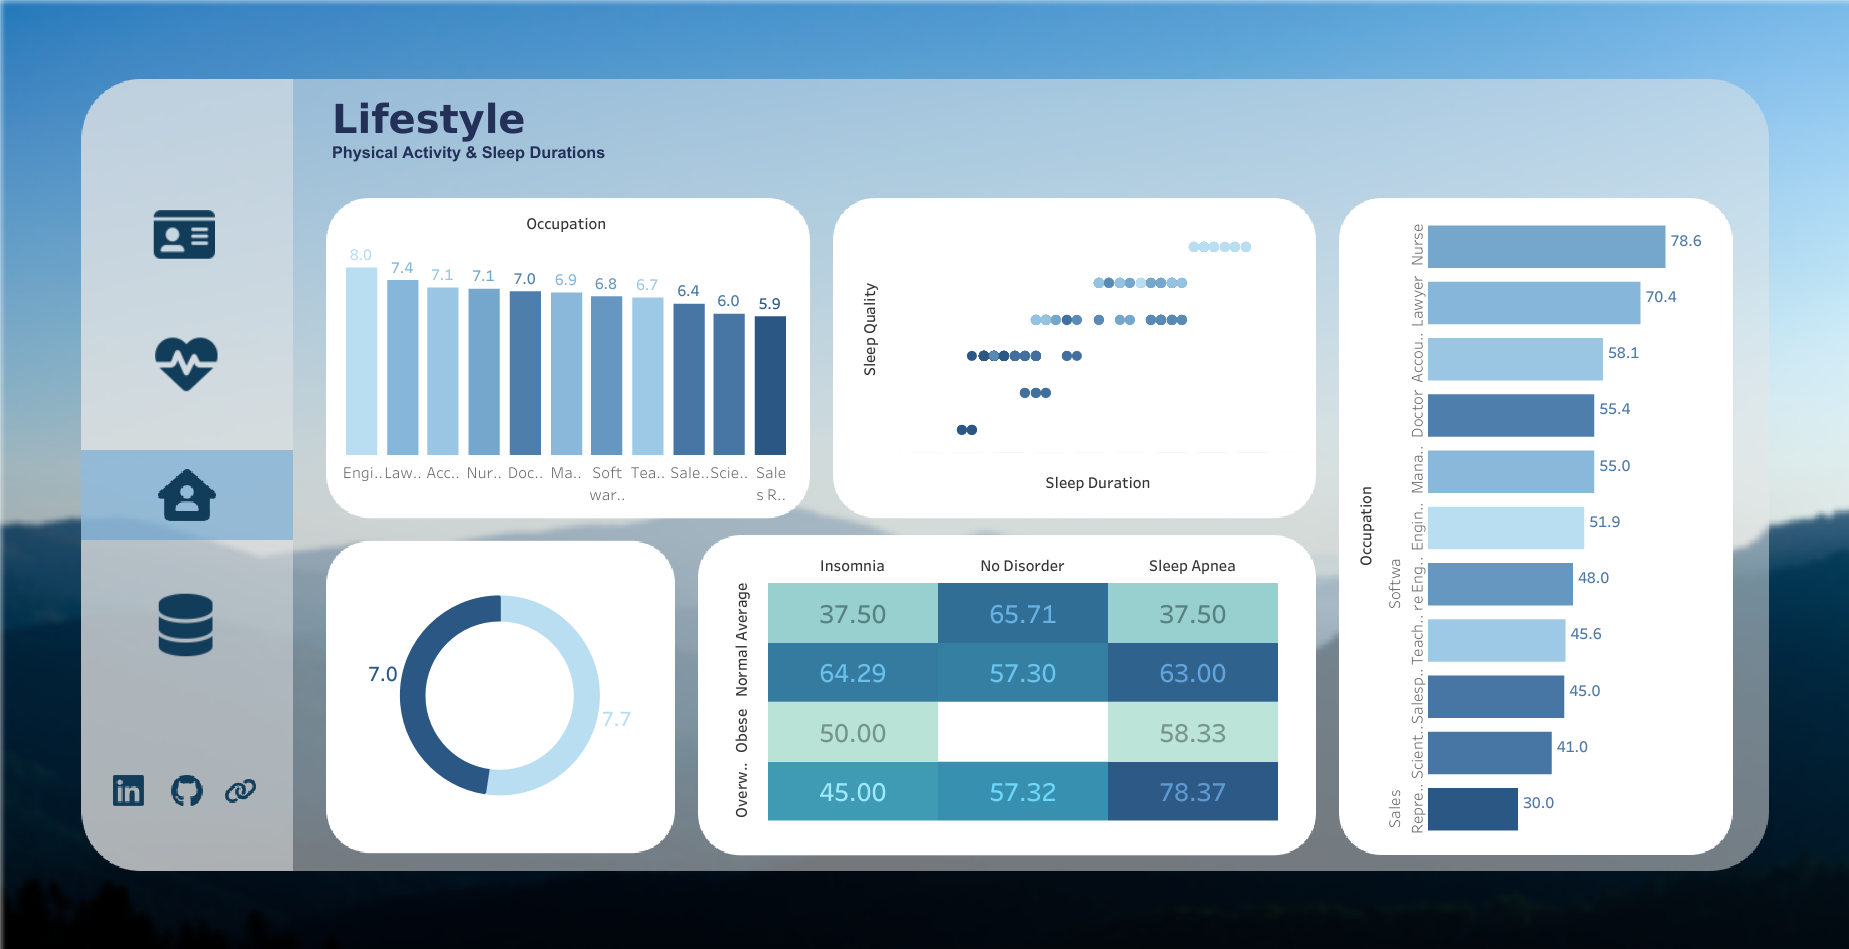

The dashboard page shown, as its layout file describes it:
{"tool":"tableau","page":{"name":"Lifestyle","canvas":[1000,1000],"units":"permille","ordinal":2},"visuals":[{"type":"text","box":[4.9,9.4,990.3,981.2]}]}

Visuals, with their boxes on the dashboard's canvas, which has no fixed pixel size, in thousandths of its width and height (x1, y1, x2, y2). These are canvas units, not pixel positions in the 1849x949 screenshot, which may show the page scaled, cropped or inside an application window:
text: crop(5, 9, 995, 991)
